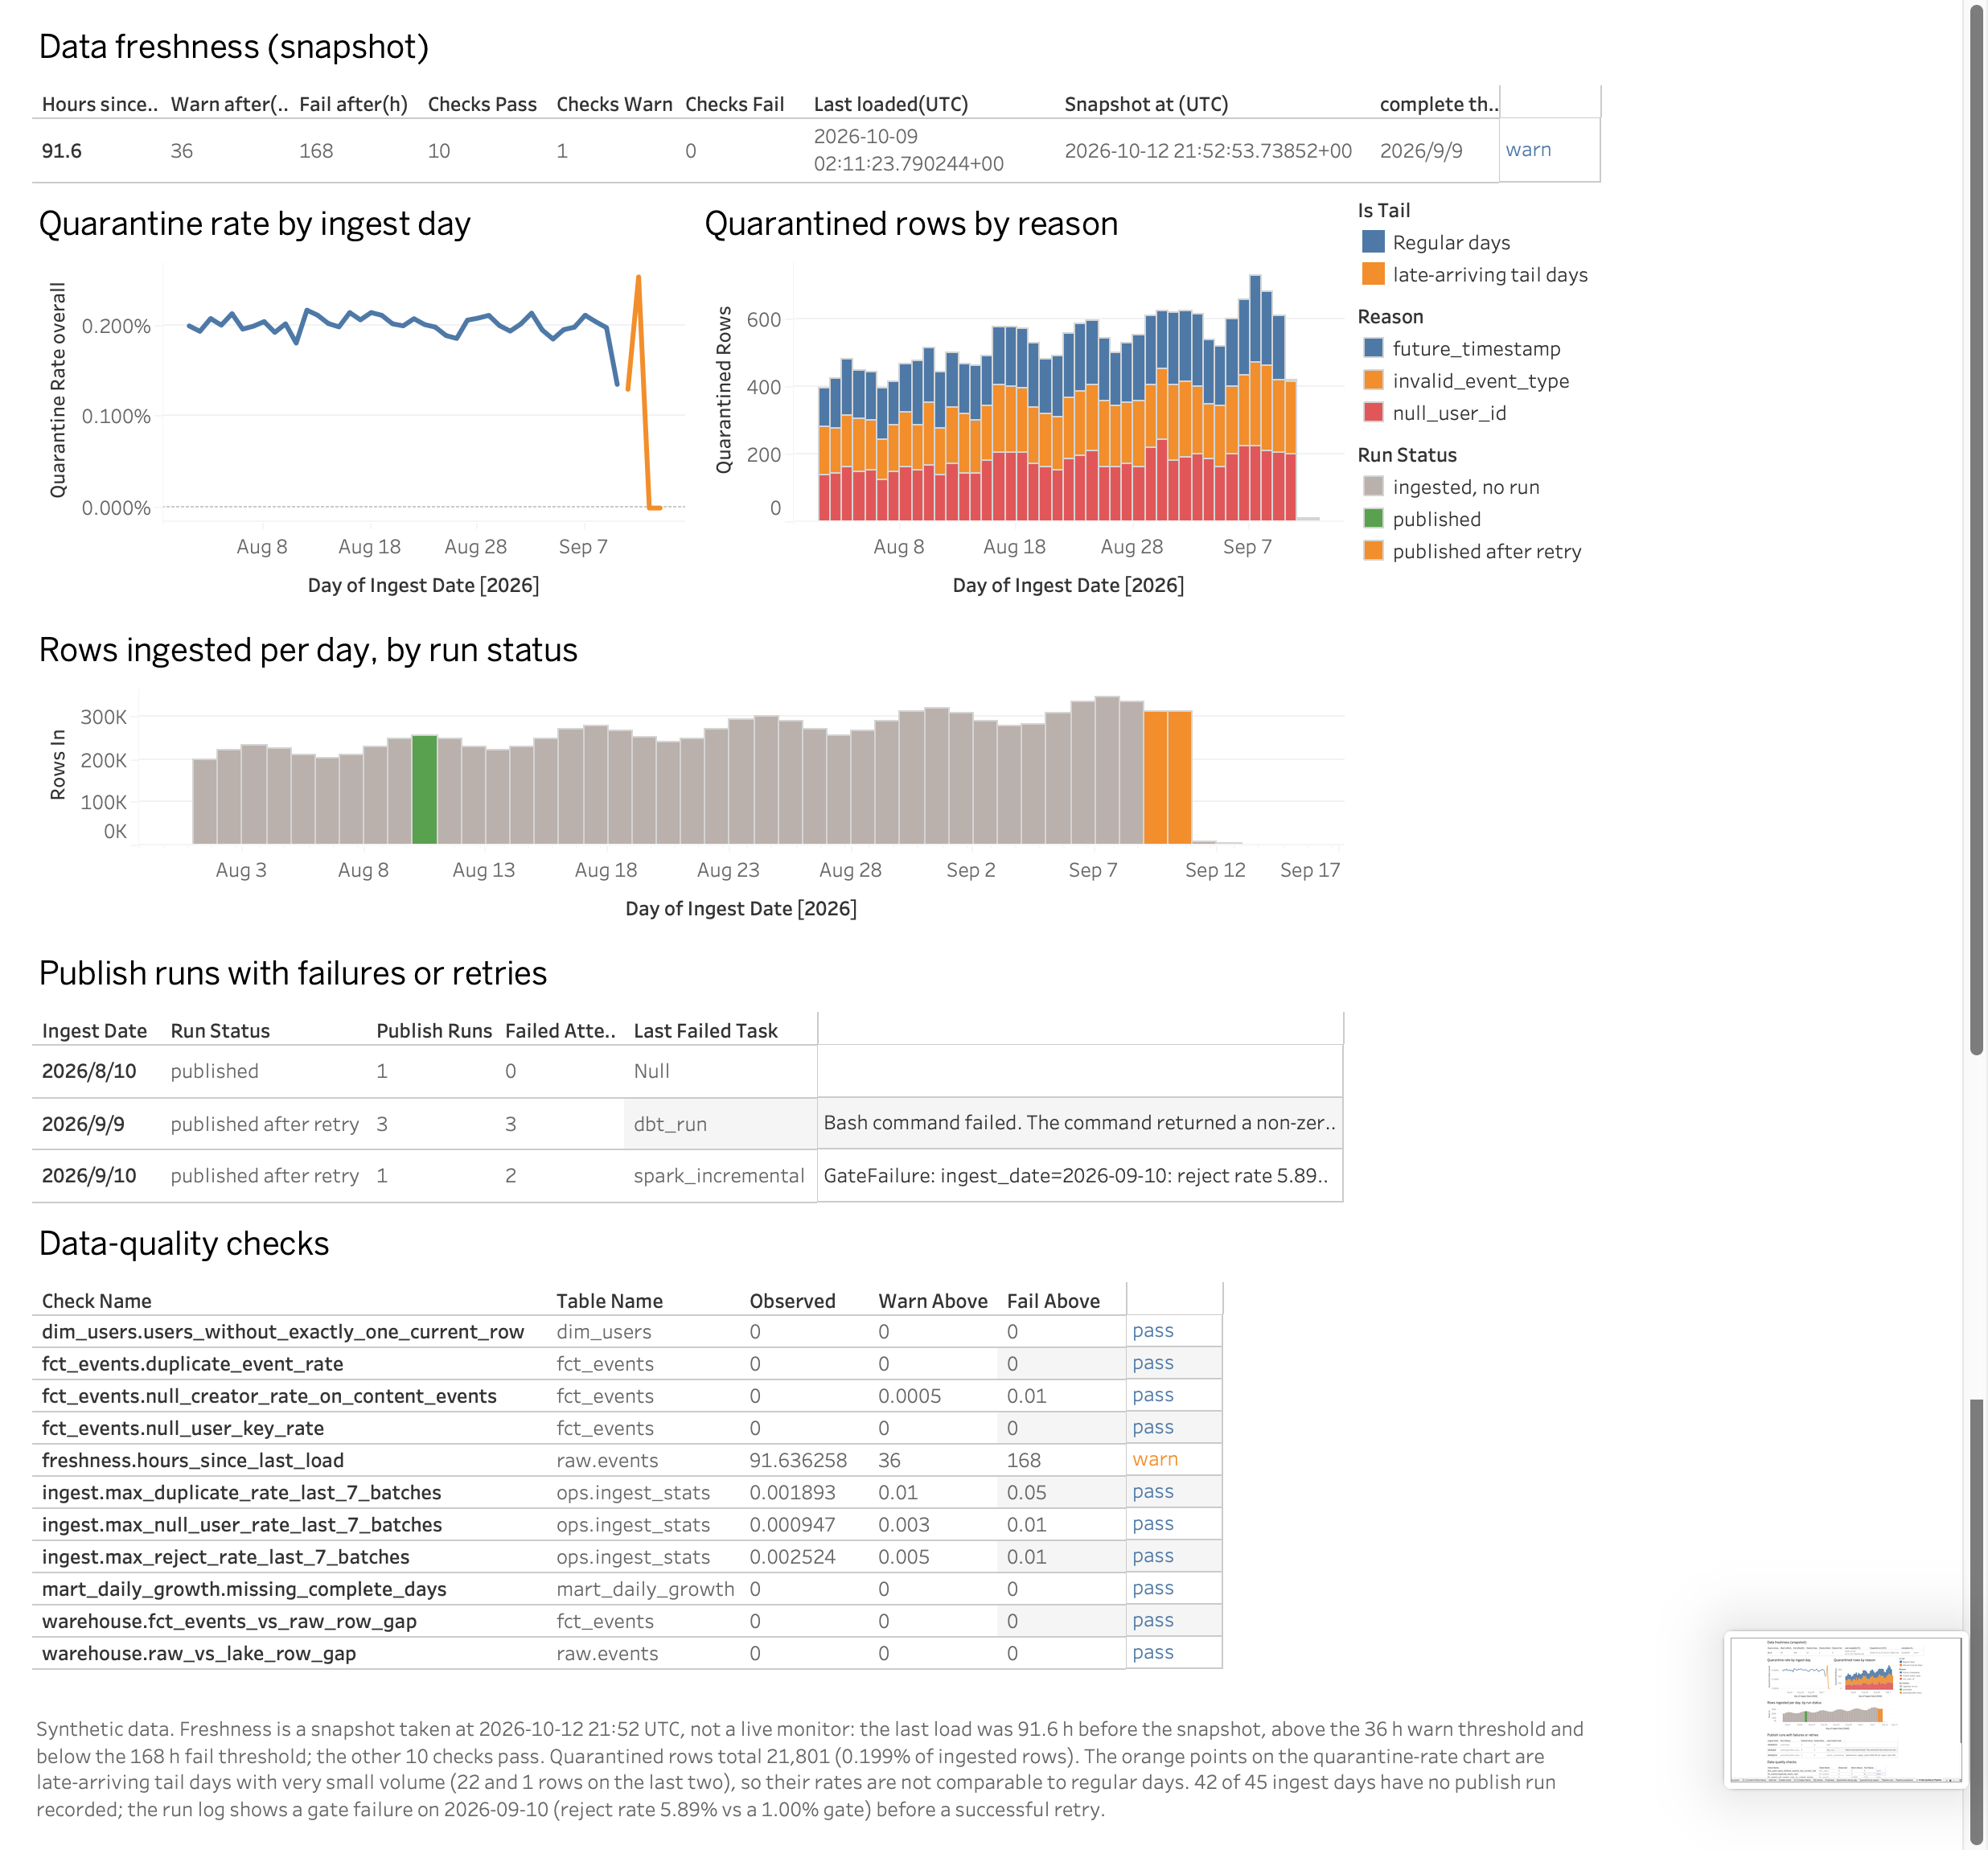

The page's visual inventory and layout, read from the dashboard file:
{"tool":"tableau","page":{"name":"4 Data Quality & Pipeline","canvas":[1000,1150],"ordinal":3},"visuals":[{"type":"worksheet","title":"Freshness","mark":"Text","rows":["hours_since_last_load","freshness_warn_hours","freshness_fail_hours","checks_pass","checks_warn","checks_fail","last_loaded_at","snapshot_at","complete_through"],"box":[8,8,984,110]},{"type":"worksheet","title":"Quarantine rate by day","mark":"Line","rows":["Calculation_3725406750633987"],"cols":["ingest_date"],"box":[8,118,414,265]},{"type":"worksheet","title":"Quarantine by reason","mark":"Bar","rows":["quarantined_rows"],"cols":["ingest_date"],"box":[422,118,410,265]},{"type":"legend","title":"Quarantine rate by day","param":"[federated.12l87tj0zlj67311yd3wr03wxsks].[none:is_tail:nk]","box":[832,118,160,66]},{"type":"legend","title":"Quarantine by reason","param":"[federated.10aacdt0f6qias1dtuckg105heik].[none:reason:nk]","box":[832,184,160,86]},{"type":"legend","title":"Pipeline runs","param":"[federated.0ibmtwx0cqv9yr11i8jny194k9q8].[none:run_status:nk]","box":[832,270,160,86]},{"type":"worksheet","title":"Pipeline runs","mark":"Bar","rows":["rows_in"],"cols":["ingest_date"],"box":[8,383,824,201.2]},{"type":"worksheet","title":"Pipeline exceptions","mark":"Text","rows":["ingest_date","run_status","publish_runs","failed_attempts","last_failed_task"],"box":[8,584.2,824,167.8]},{"type":"worksheet","title":"DQ checks","mark":"Text","rows":["check_name","table_name","observed","warn_above","fail_above"],"box":[8,752,984,306]},{"type":"text","box":[8,1058,984,84]}]}

Visuals, with their boxes on the page's 1000x1150 design canvas (x1, y1, x2, y2). These are canvas units, not pixel positions in the 1988x1850 screenshot, which may show the page scaled, cropped or inside an application window:
"Freshness" worksheet (Text marks): bbox=[8, 8, 992, 118]
"Quarantine rate by day" worksheet (Line marks): bbox=[8, 118, 422, 383]
"Quarantine by reason" worksheet (Bar marks): bbox=[422, 118, 832, 383]
"Quarantine rate by day" legend: bbox=[832, 118, 992, 184]
"Quarantine by reason" legend: bbox=[832, 184, 992, 270]
"Pipeline runs" legend: bbox=[832, 270, 992, 356]
"Pipeline runs" worksheet (Bar marks): bbox=[8, 383, 832, 584]
"Pipeline exceptions" worksheet (Text marks): bbox=[8, 584, 832, 752]
"DQ checks" worksheet (Text marks): bbox=[8, 752, 992, 1058]
text: bbox=[8, 1058, 992, 1142]
